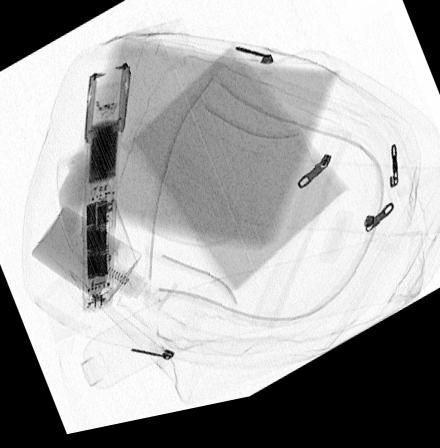Baton: (80, 66, 132, 316)
